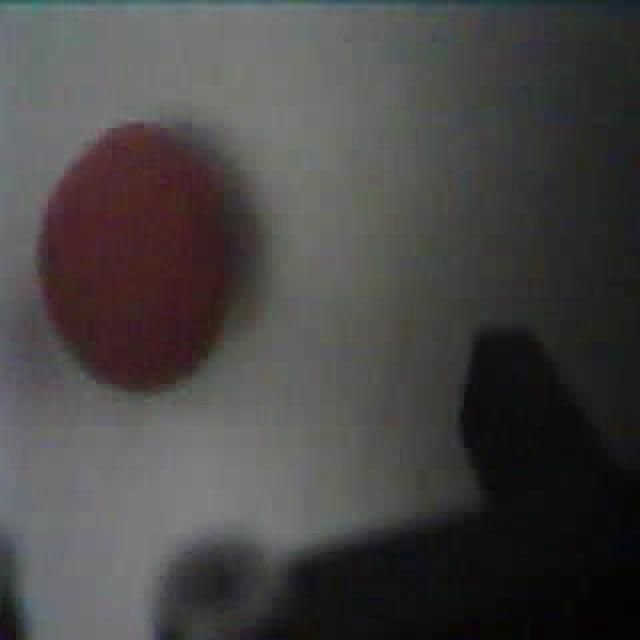red_ball: (34, 114, 250, 394)
